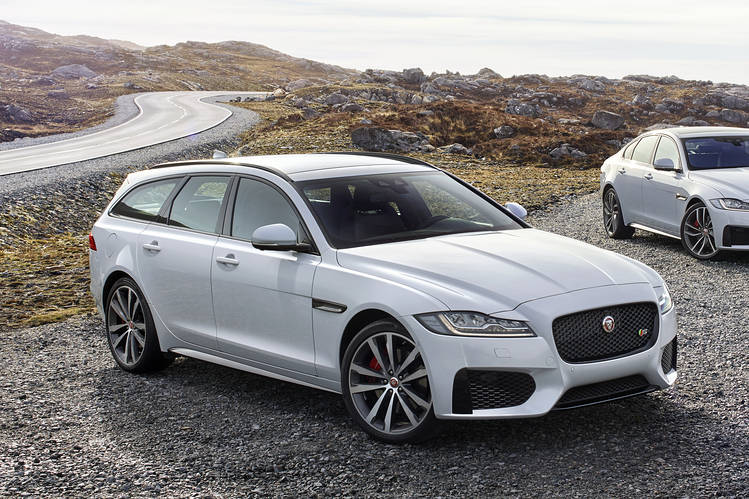car: (88, 153, 679, 443), (599, 125, 749, 260)
